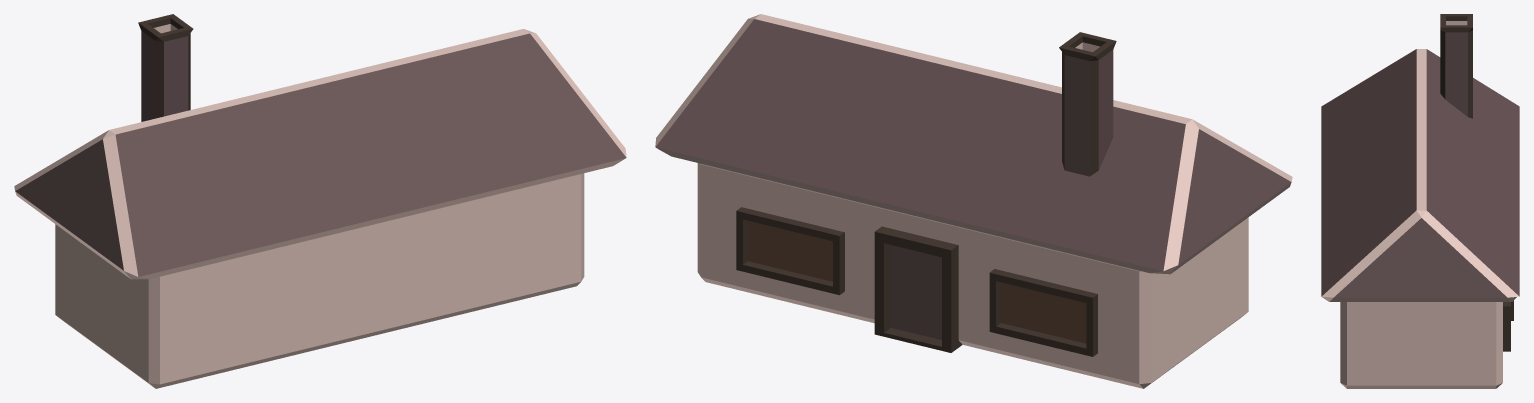
Rendered from SM_smallHouse.fbx.
3 views of the same model, side by side, from view 1: azimuth 30°, elevation 25°; view 2: azimuth 150°, elevation 25°; view 3: azimuth 270°, elevation 25° (orthographic). The views are drawn at different scales.
Visible parts, largest first — view 1: Cube; view 2: Cube; view 3: Cube.
Part boxes in pixels (left/top/right/bottom): Cube: left=14, top=14, right=626, bottom=388; Cube: left=655, top=14, right=1292, bottom=388; Cube: left=1321, top=14, right=1519, bottom=388.
Bounding box in the file's own units: 378 × 212 × 162.
